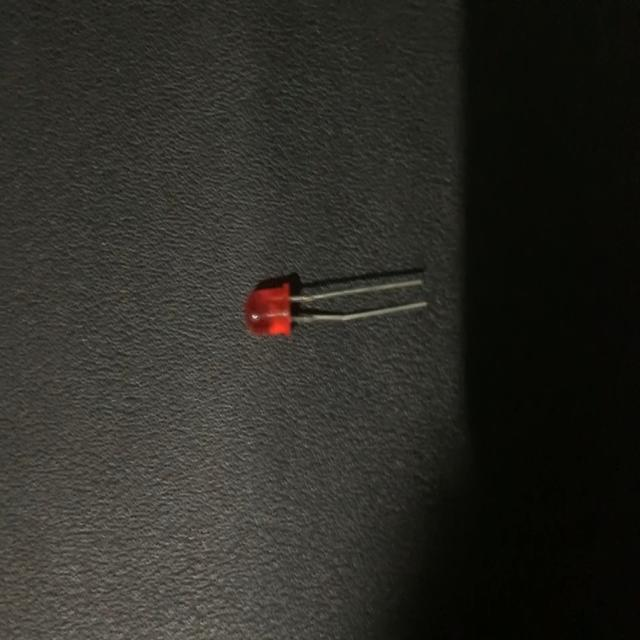LED: (242, 276, 427, 339)
